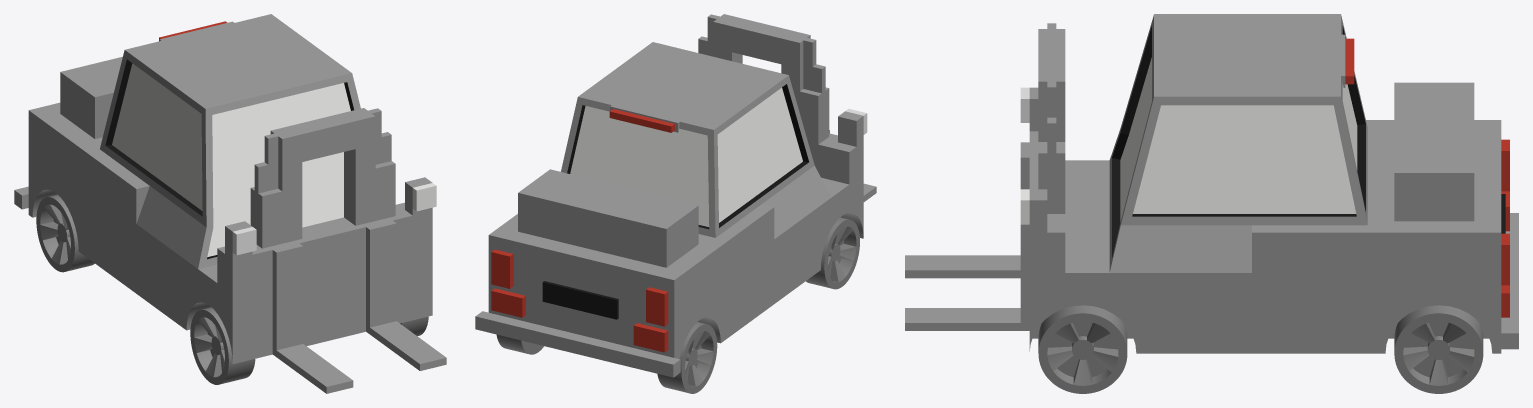
File: Forklift v3.fbx
The picture shows the model from 3 angles, left to right: view 1: azimuth 30°, elevation 25°; view 2: azimuth 150°, elevation 25°; view 3: azimuth 270°, elevation 25°; orthographic projection. The views are drawn at different scales.
Visible parts, largest first — view 1: Körper1, Body1 (×4), ForkRight, ForkLeft; view 2: Körper1 (×3), Body1 (×7); view 3: Körper1, Body1 (×2), ForkLeft, ForkRight.
Part boxes in pixels (<box>): Körper1: <box>14,14,432,363</box>; Body1 (×4): <box>36,183,436,384</box>; ForkRight: <box>272,243,353,393</box>; ForkLeft: <box>366,220,446,370</box>; Körper1 (×3): <box>475,14,863,377</box>; Body1 (×7): <box>491,109,859,393</box>; Körper1: <box>1029,14,1518,353</box>; Body1 (×2): <box>1038,305,1483,393</box>; ForkLeft: <box>905,224,1029,330</box>; ForkRight: <box>905,142,1029,278</box>.
Size of the model in its own units: 640 by 700 by 1380.
